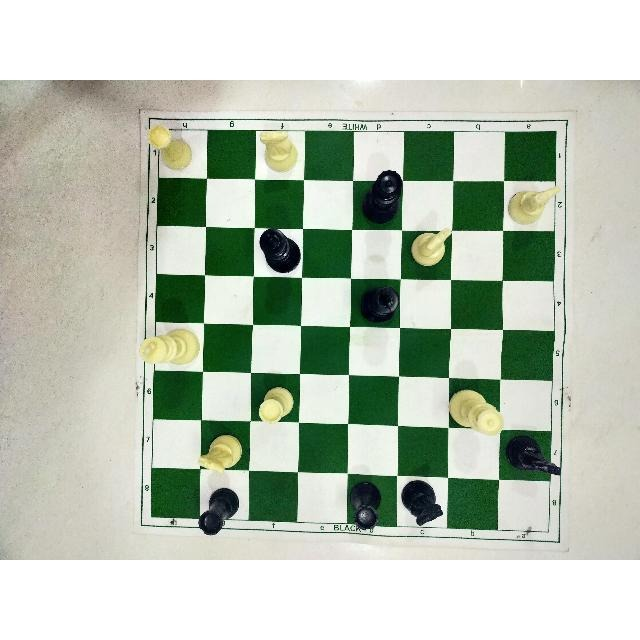black-king: (256, 226, 300, 275), (358, 282, 401, 322)
black-knight: (509, 435, 561, 485), (403, 481, 443, 527)
black-queen: (364, 165, 404, 222)
black-rook: (195, 485, 239, 537), (347, 480, 384, 532)
white-king: (136, 324, 198, 371)
white-knight: (507, 180, 563, 228), (191, 429, 243, 473), (408, 224, 456, 268), (255, 126, 298, 174)
white-queen: (446, 385, 507, 440)
white-rook: (145, 121, 191, 174), (256, 386, 290, 426)
